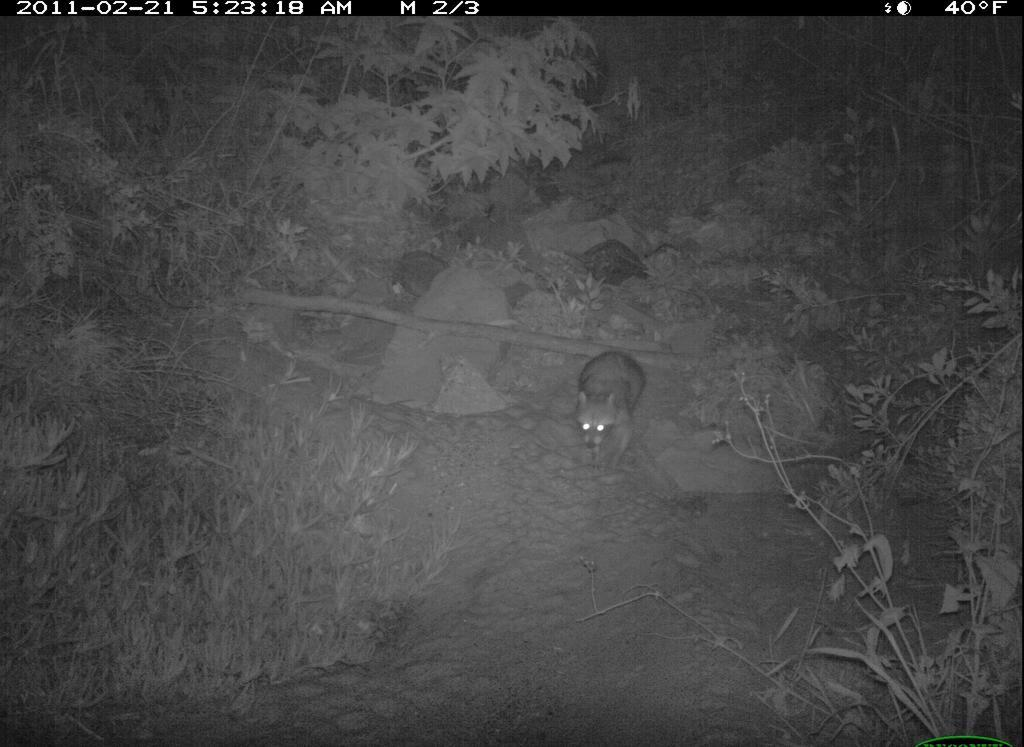raccoon: (566, 342, 653, 477)
